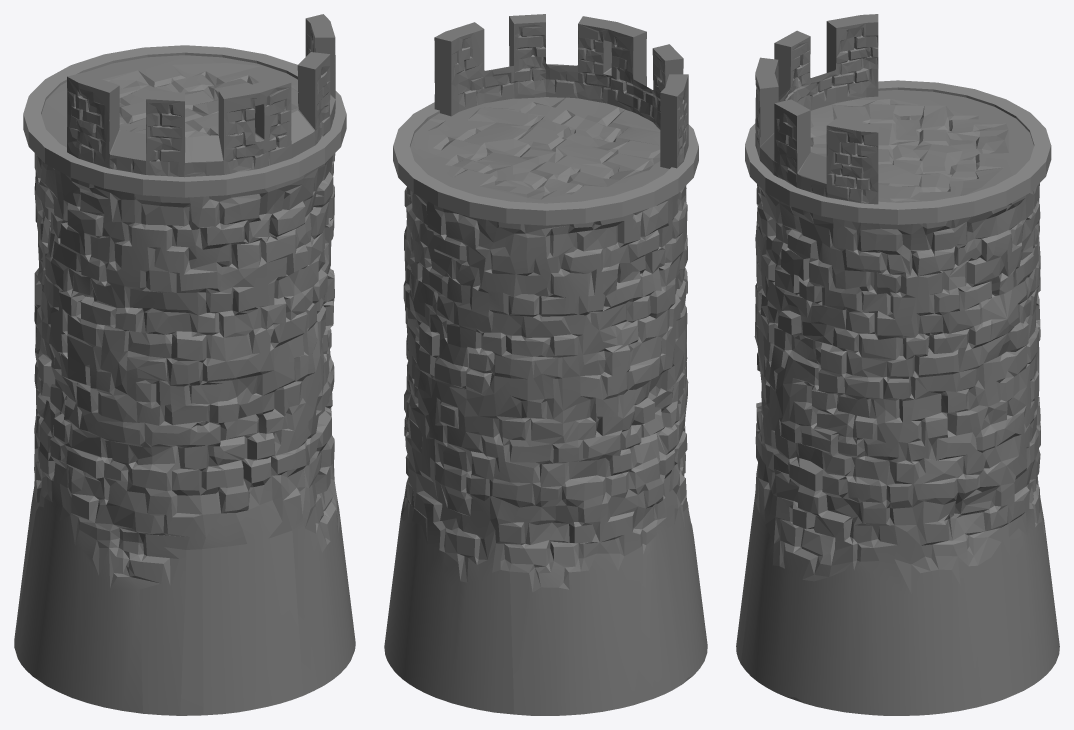
File: castle_round_tower_c.FBX
The picture shows the model from 3 angles, left to right: view 1: azimuth 30°, elevation 25°; view 2: azimuth 150°, elevation 25°; view 3: azimuth 270°, elevation 25°; orthographic projection. The views are drawn at different scales.
Visible parts, largest first — view 1: castle_round_tower_c; view 2: castle_round_tower_c; view 3: castle_round_tower_c.
Part boxes in pixels (x1,y1,x2,y2): castle_round_tower_c: (14,14,355,715); castle_round_tower_c: (384,14,707,715); castle_round_tower_c: (736,14,1059,715).
Size of the model in its own units: 5.86 by 11.48 by 5.87.
